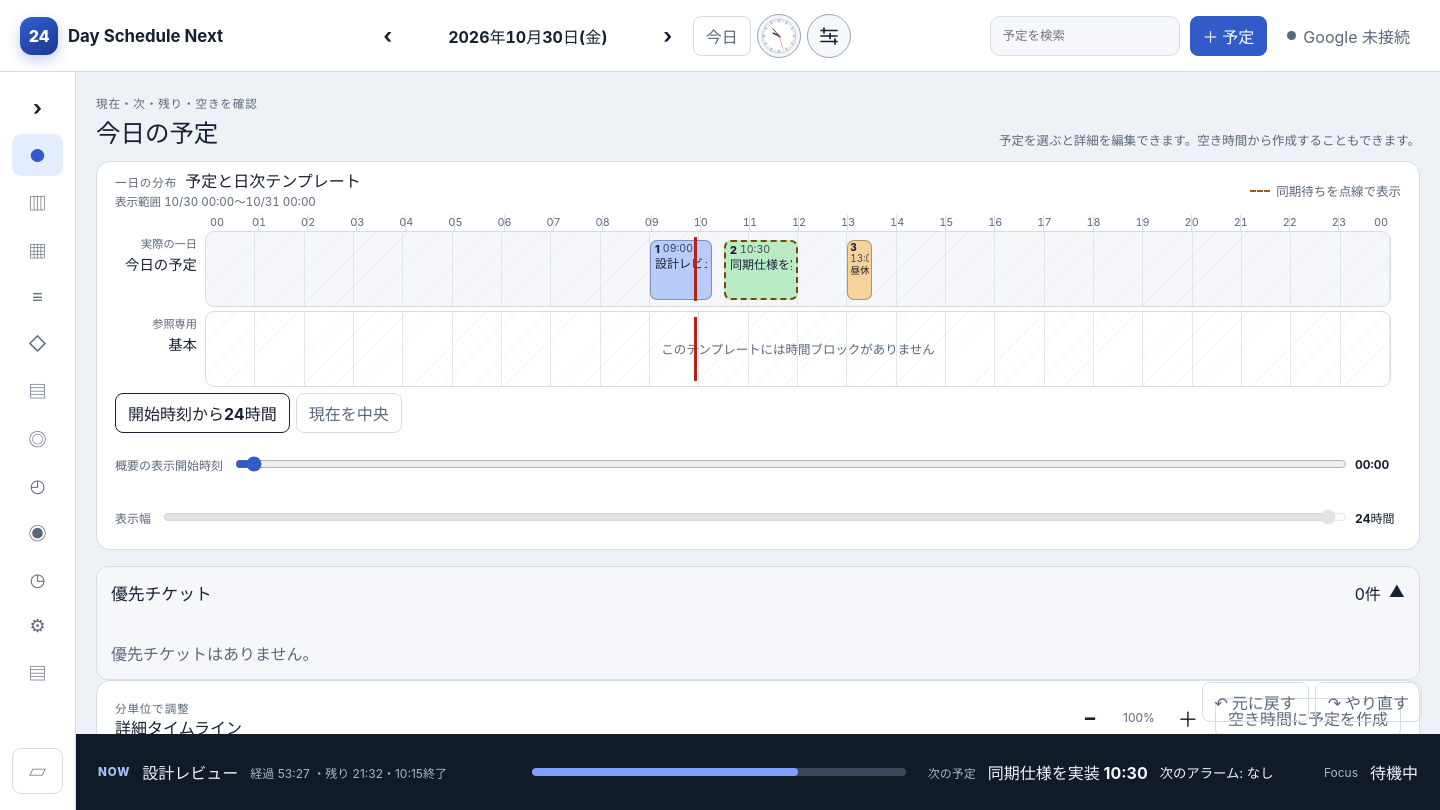
Test: App time-tool navigation › opens timers and stopwatch as separate navigation destinations
The image size is (1440, 810).
Click the button named "タイマー".
click(38, 485)  # box [12,464,63,506]
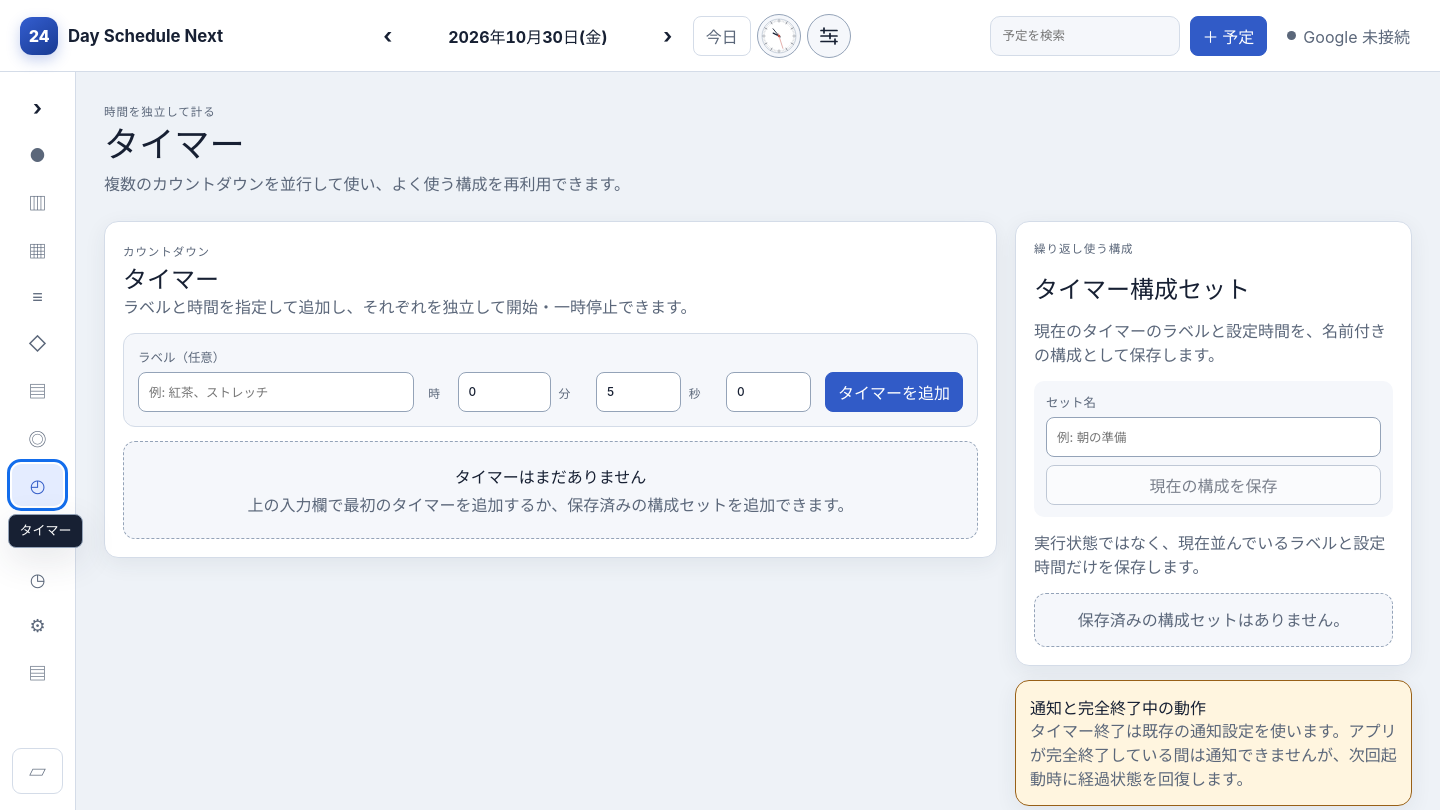
Expected: the heading "ストップウォッチ" is not shown
Now the heading "タイマー" below "時間を独立して計る" is shown, box [104,123,245,165]
Click the button named "ストップウォッチ".
click(38, 532)  # box [12,510,63,554]
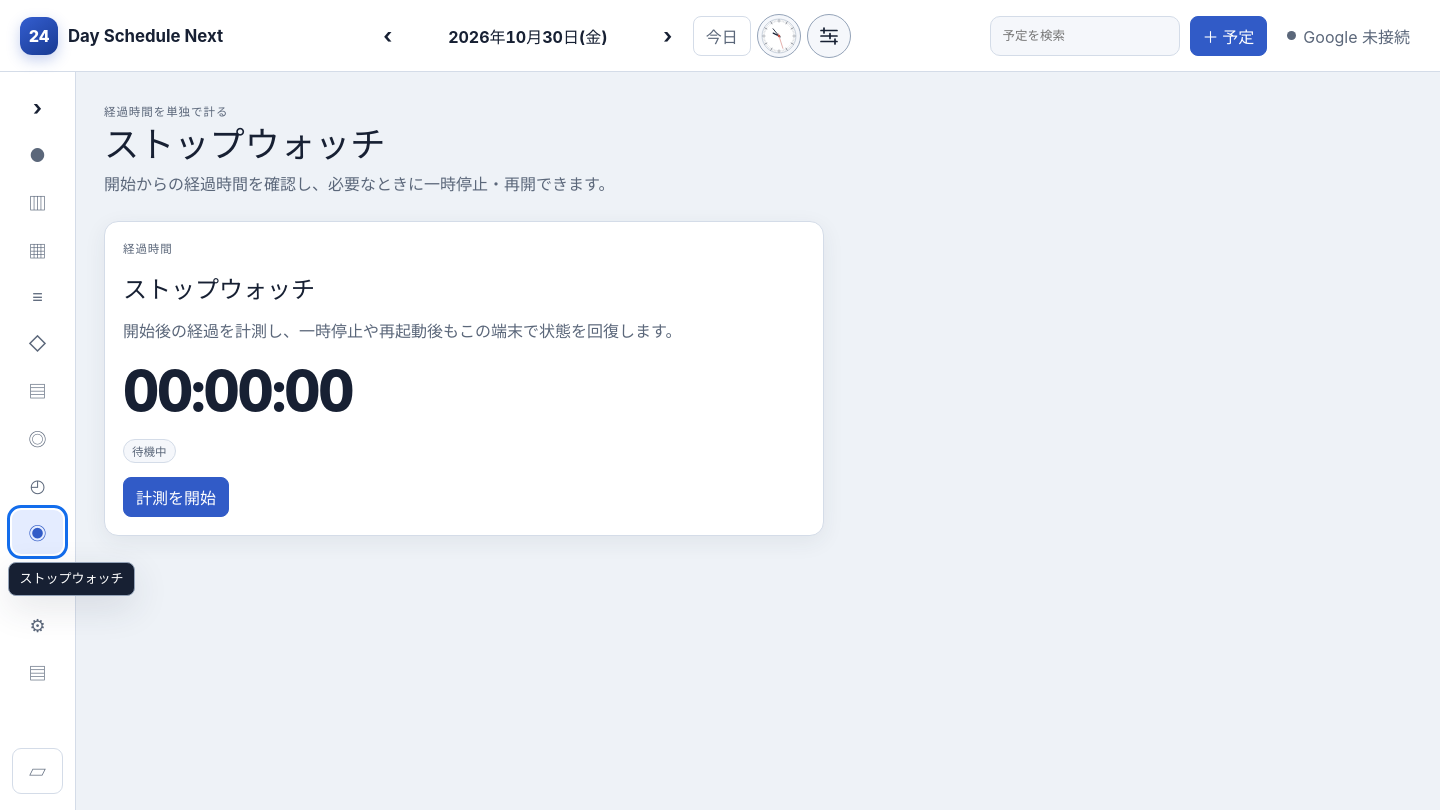
Now the heading "ストップウォッチ" below "経過時間を単独で計る" is shown, box [104,123,386,165]
Now the heading "タイマー" is gone
